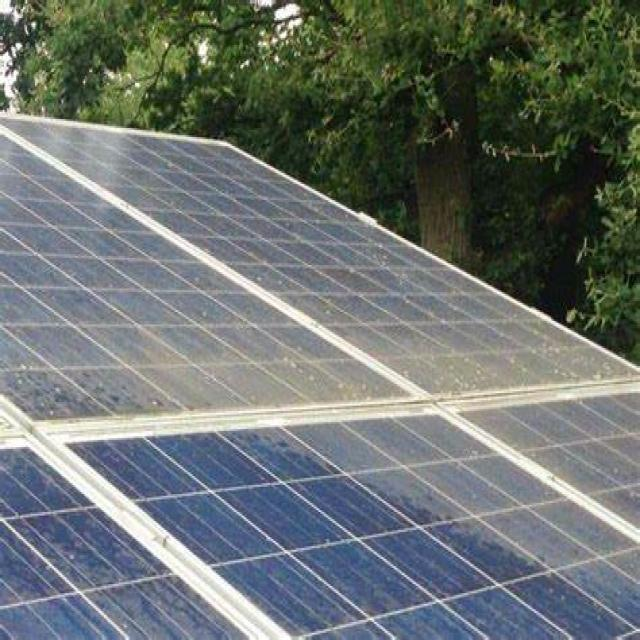dust-solar-panel: (0, 118, 640, 640)
